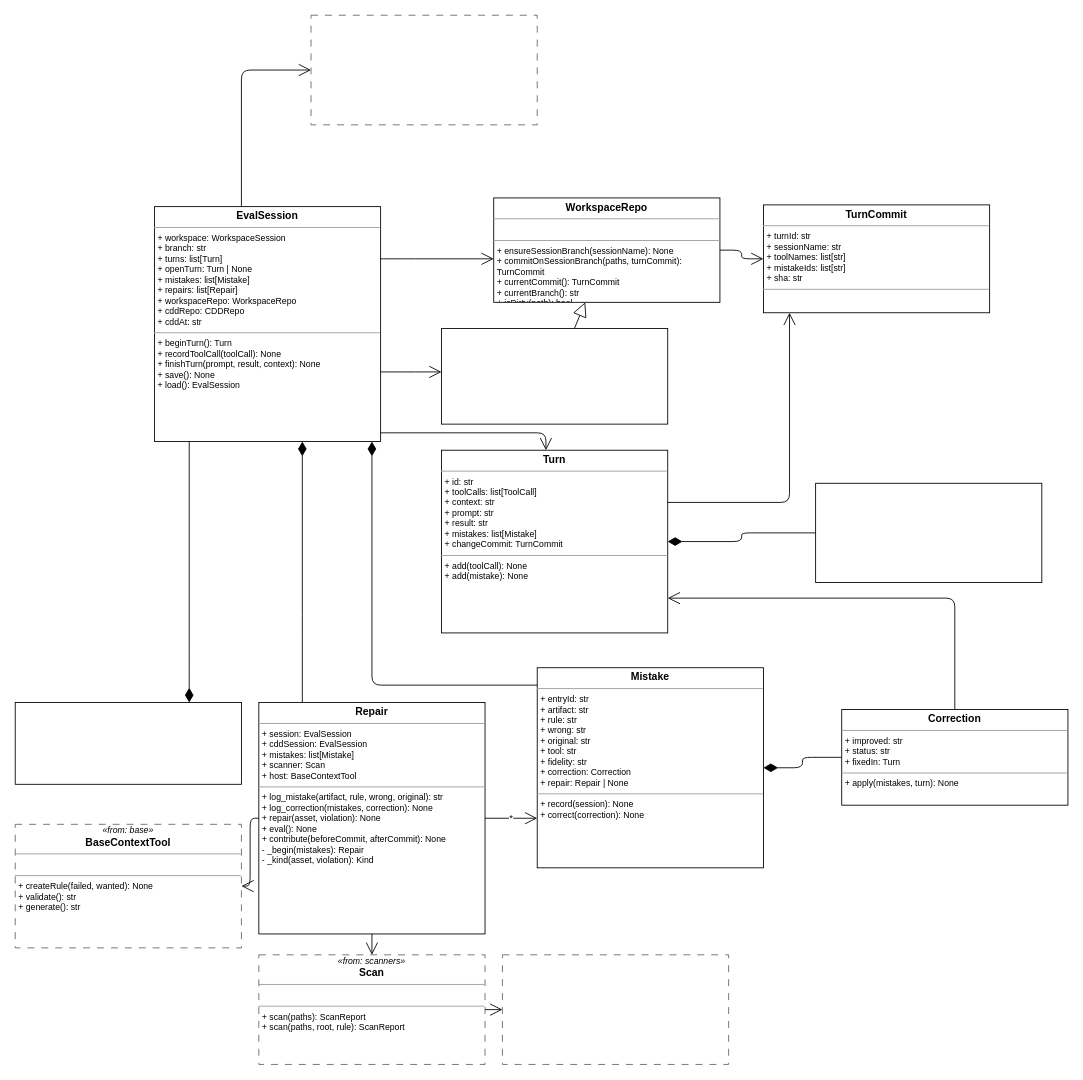
This 1083x1080 diagram has some shape labels left out. The box of each missing label's shape, as (x1, y1, x2, y2) in pixels:
Archive + sessions: list[EvalSession] + promote(session, commitRange): None: (14, 702, 241, 784)
CDDRepo + headSha: str + link(session): None + openSession(name): EvalSession: (441, 328, 668, 424)
ToolCall + toolset: str + name: str + summary: str: (815, 482, 1042, 582)
«from: scanners» ScanReport + ok: bool + matches(mistake): bool: (502, 954, 729, 1064)
«from: workspace» WorkspaceSession + path: str + folder: str + open: bool: (310, 14, 537, 125)
